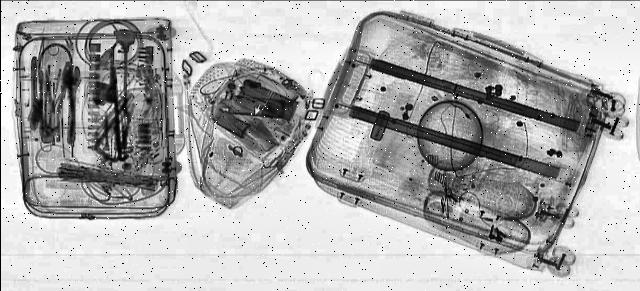Wrench: (59, 61, 81, 145)
